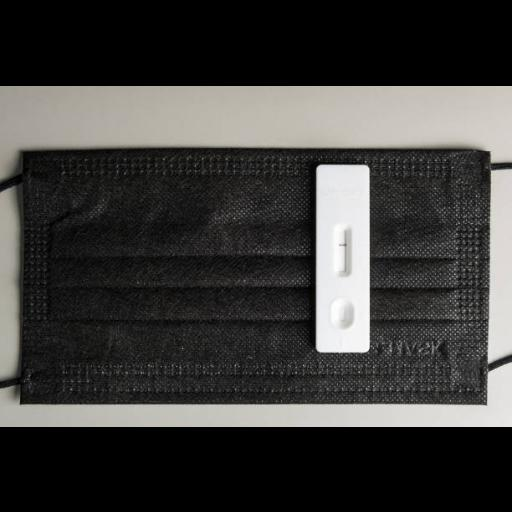Neg: (316, 163, 368, 351)
